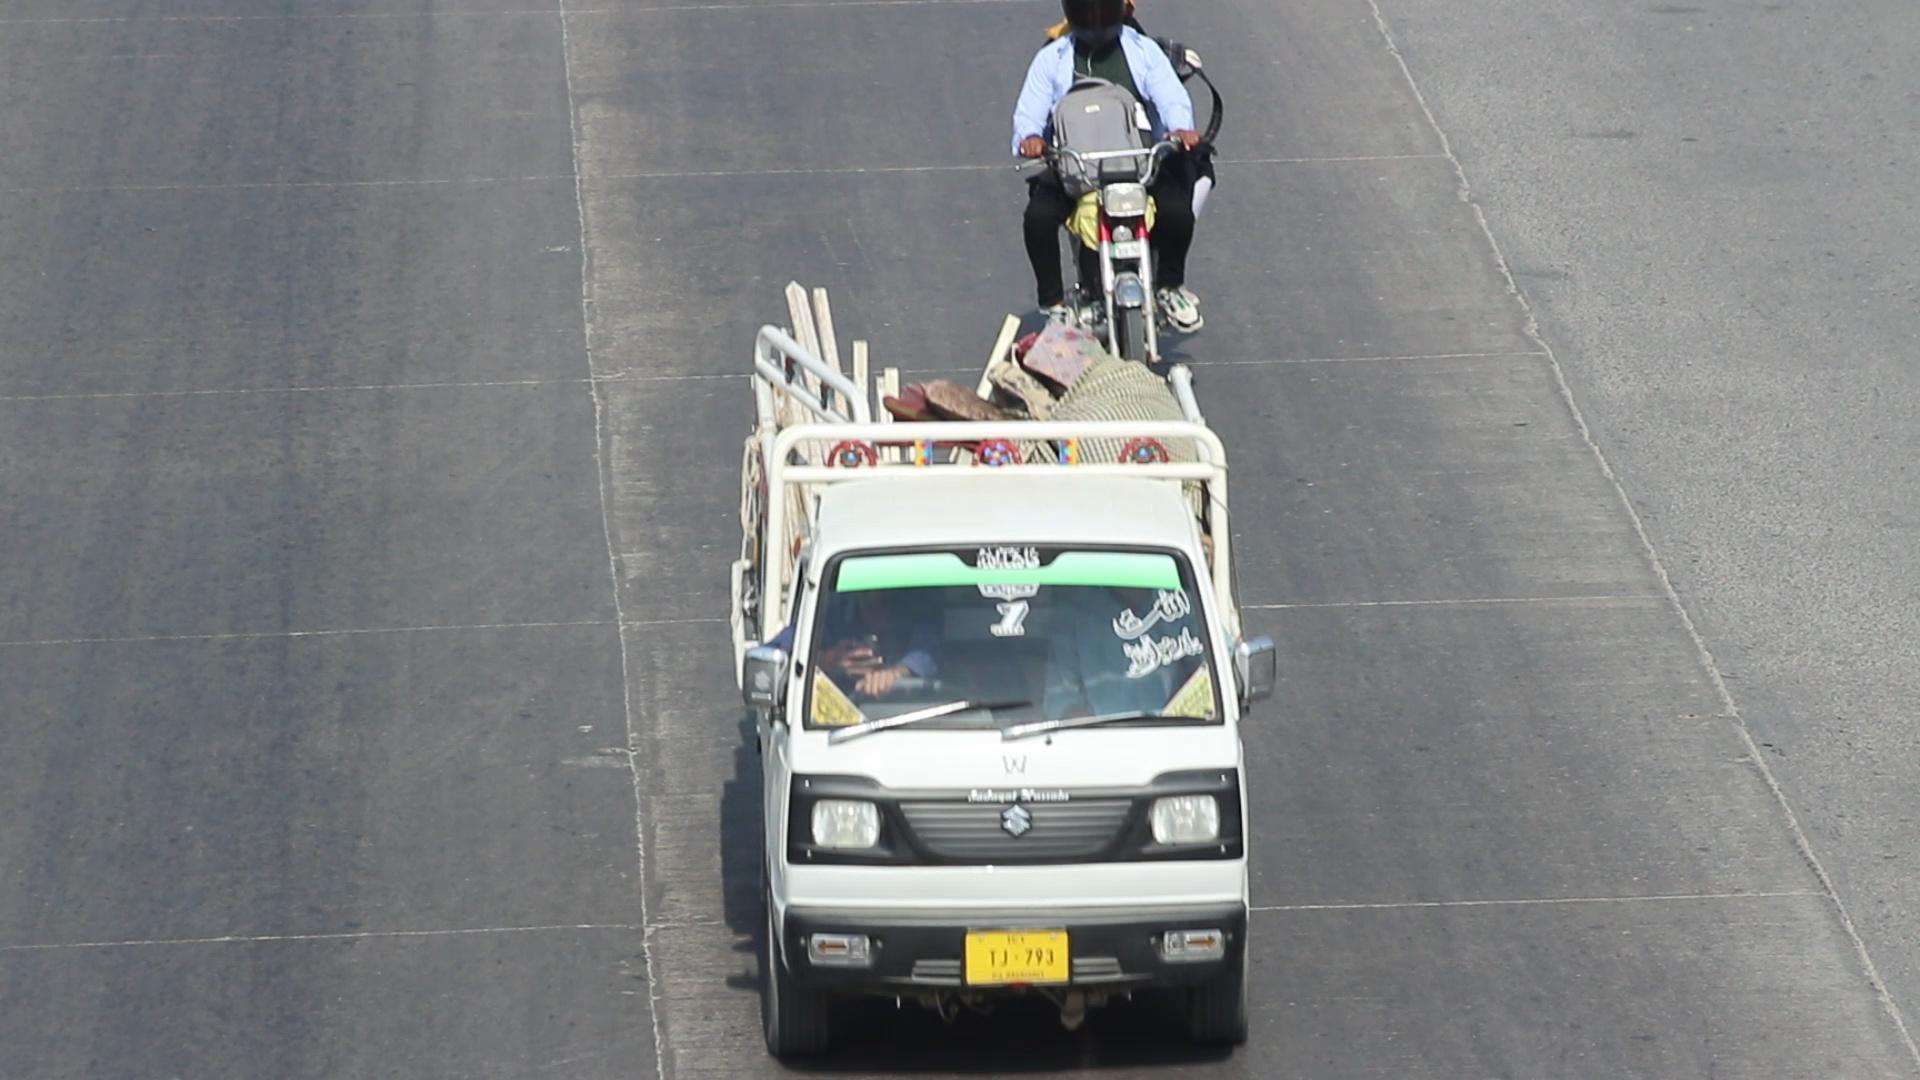windshield: (787, 526, 1244, 737)
